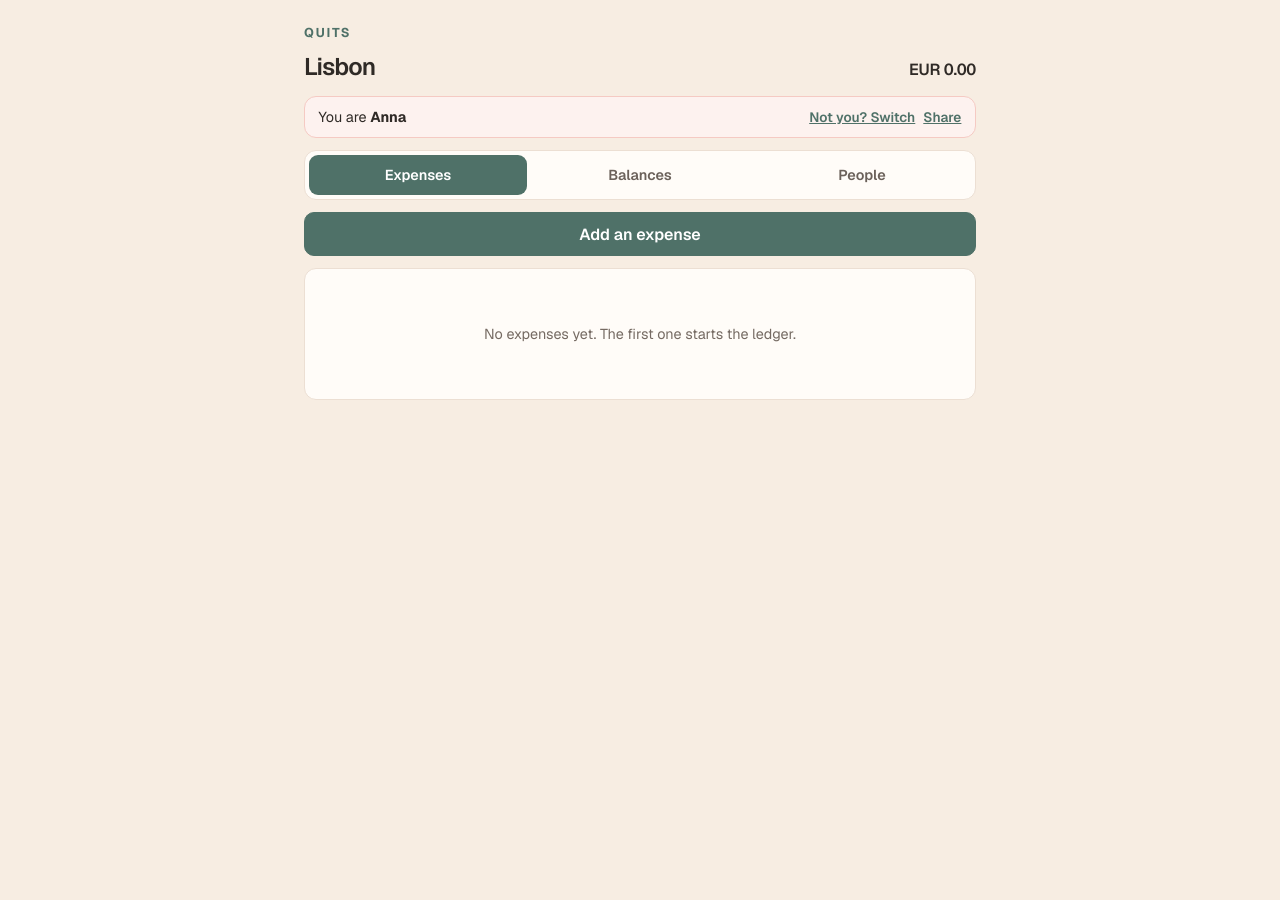
it: adding an expense — SPEC §7.10 to §7.14 › shows the live "left to assign" indicator in exact mode
The width and height of the screenshot is (1280, 900).
Click the button "Add an expense".
click(640, 234)  # box [304,212,976,256]
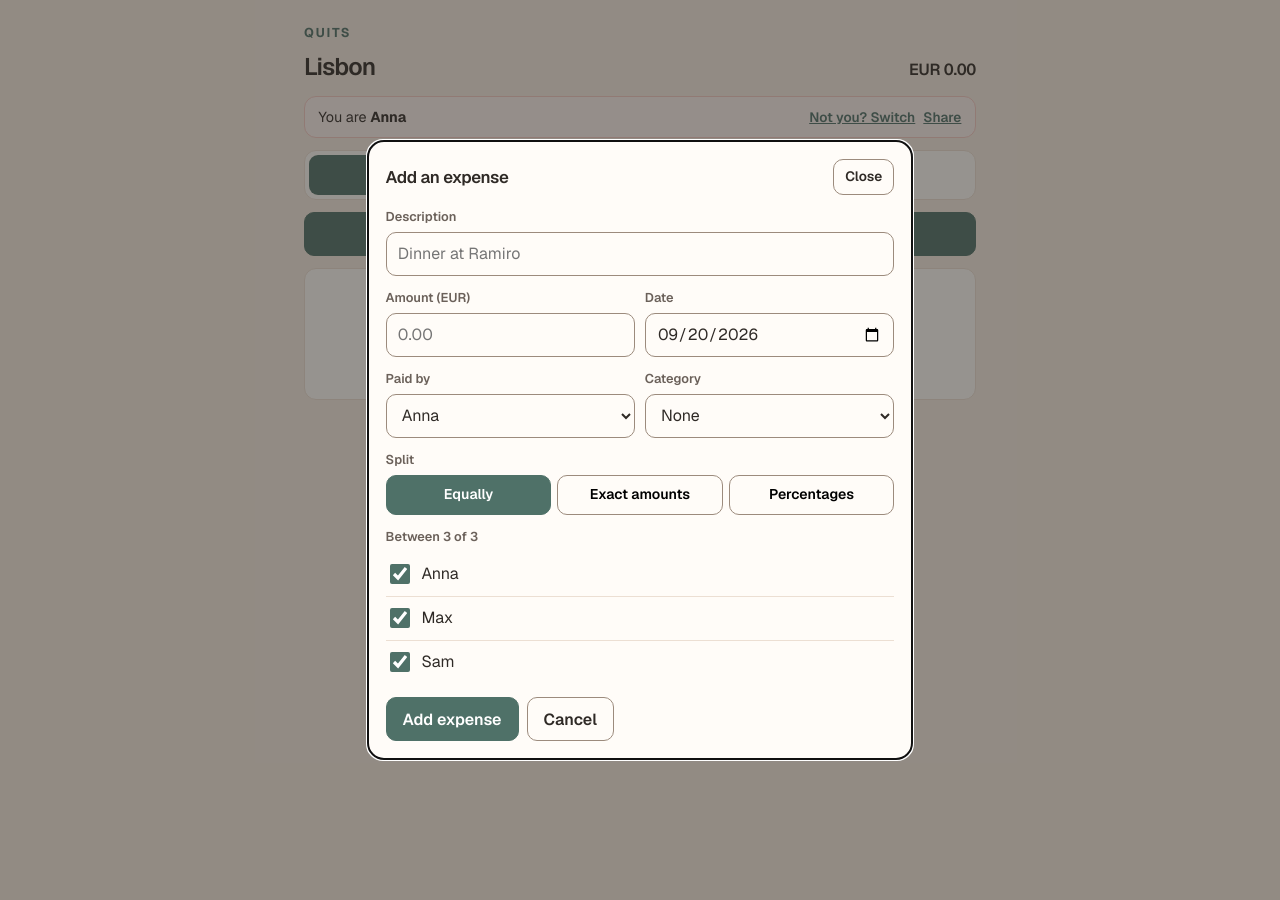
Type "10.00" into the field labelled "Amount (EUR)".
click(510, 335); type("10.00")  # box [386,313,635,357]
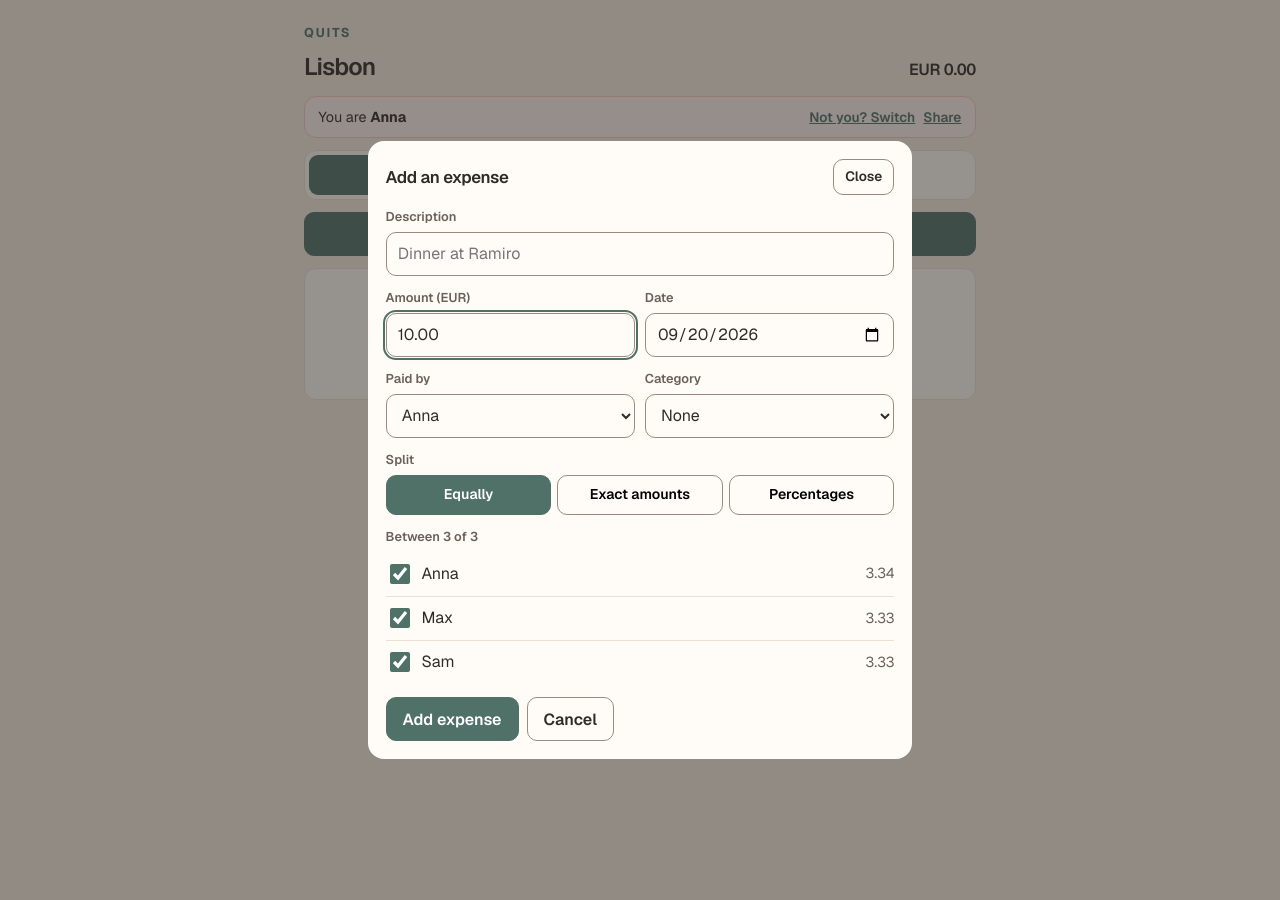
Click the button "Exact amounts".
click(640, 495)  # box [557,475,723,515]
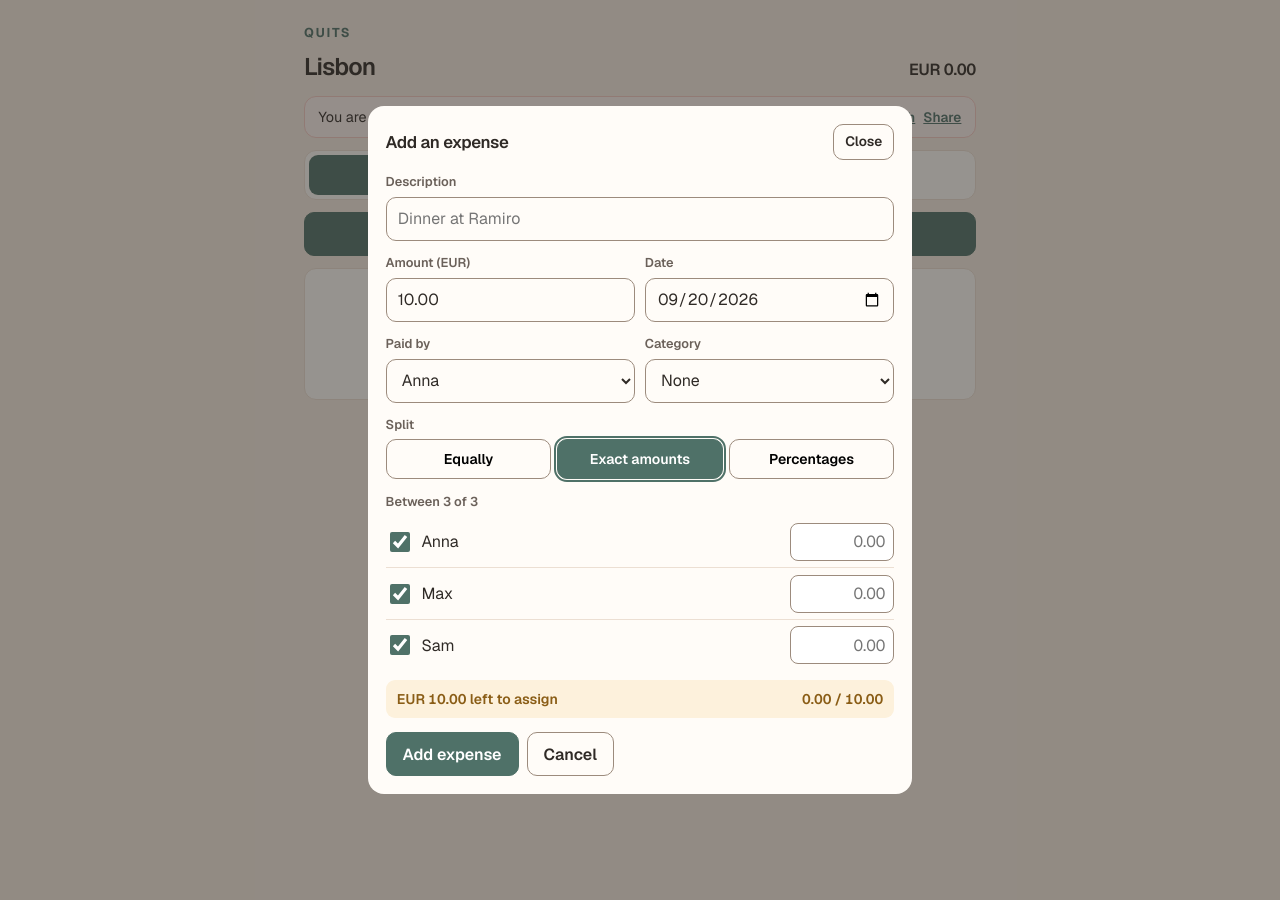
Expected: the text "EUR 10.00 left to assign" is shown, [397,689,558,710]
Type "7.60" into the field named "amount for anna".
click(842, 542); type("7.60")  # box [790,523,894,561]
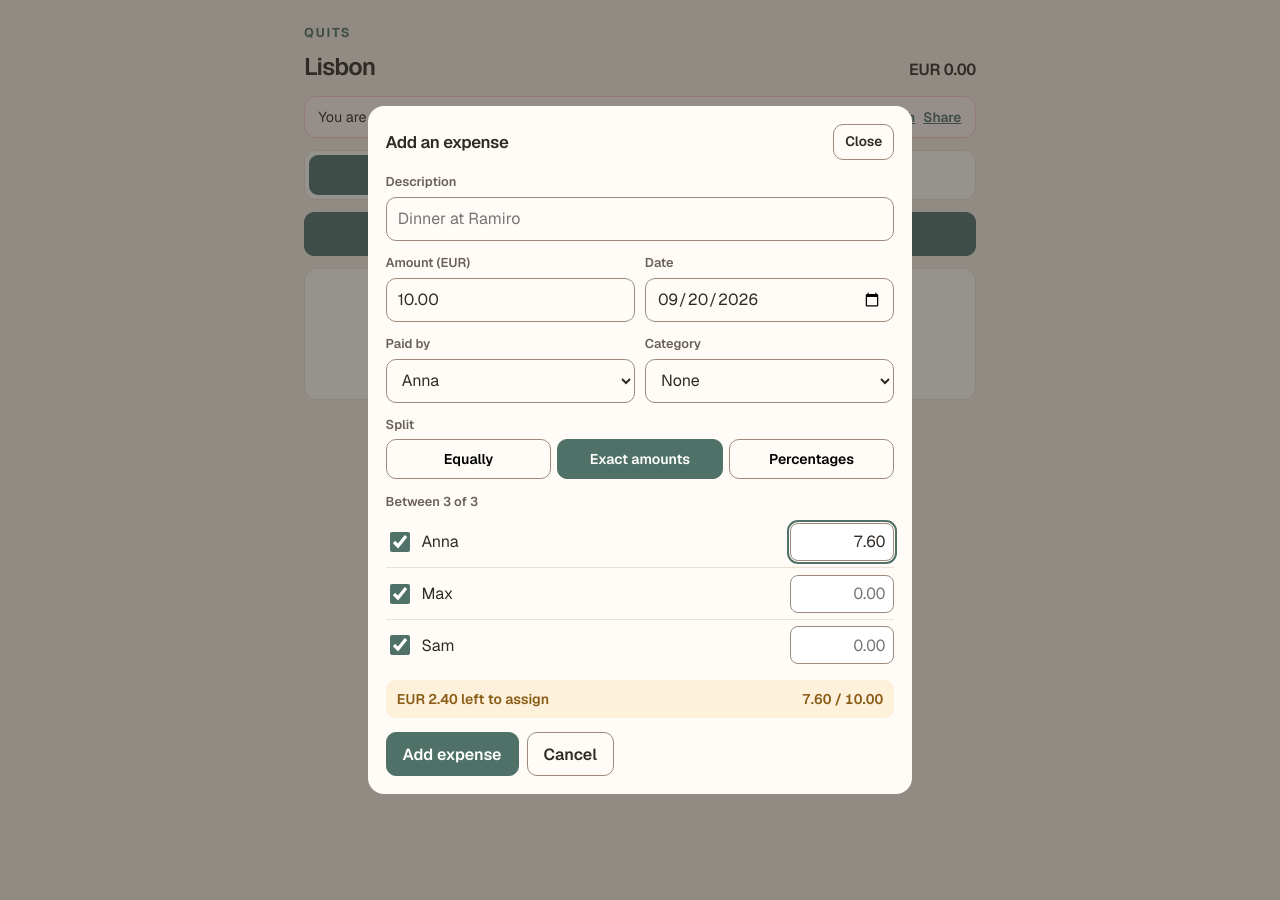
Expected: the text "EUR 2.40 left to assign" is shown, [397,689,549,710]
Type "2.40" into the field named "amount for max".
click(842, 594); type("2.40")  # box [790,575,894,613]
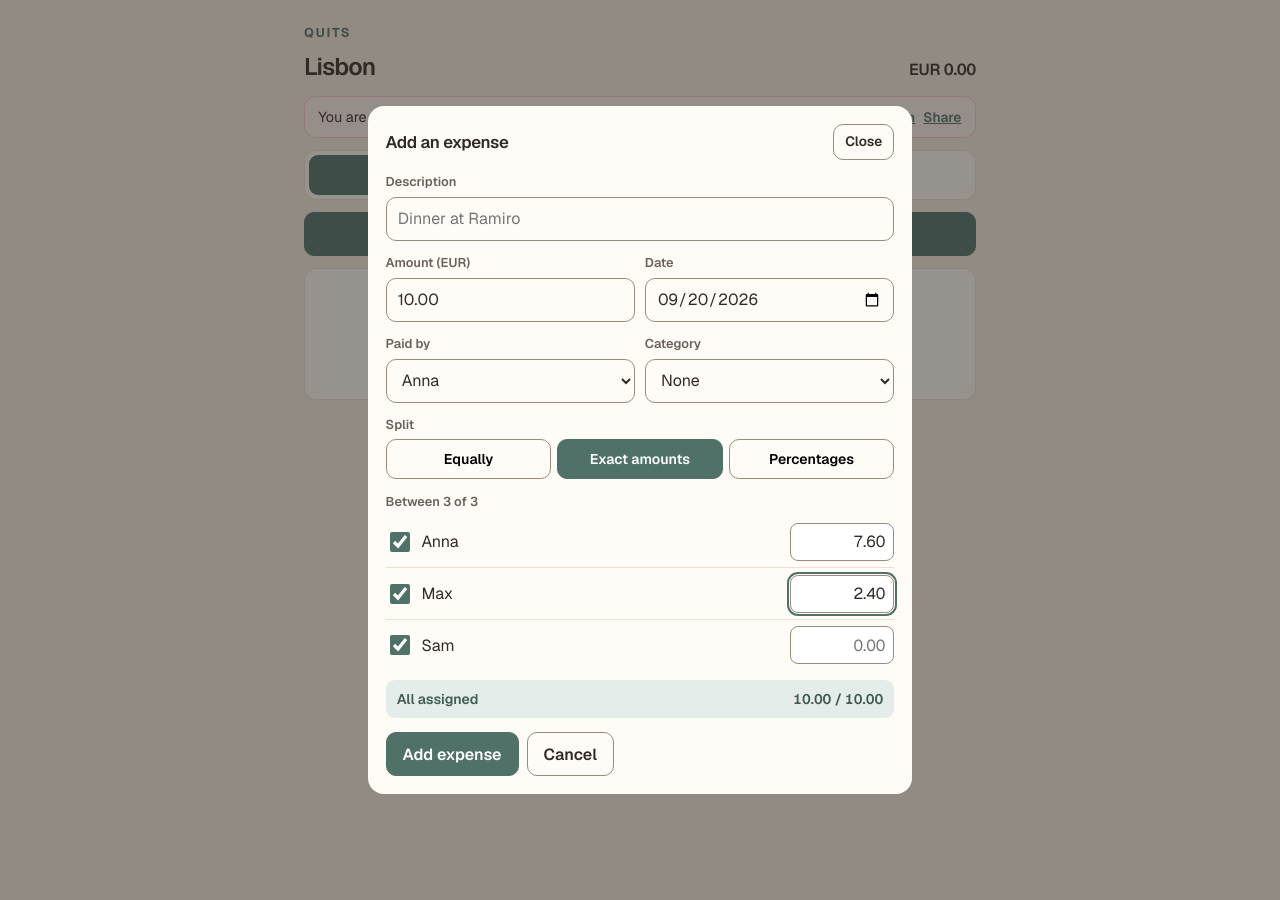
Expected: the text "All assigned" is shown, [397,689,478,710]
